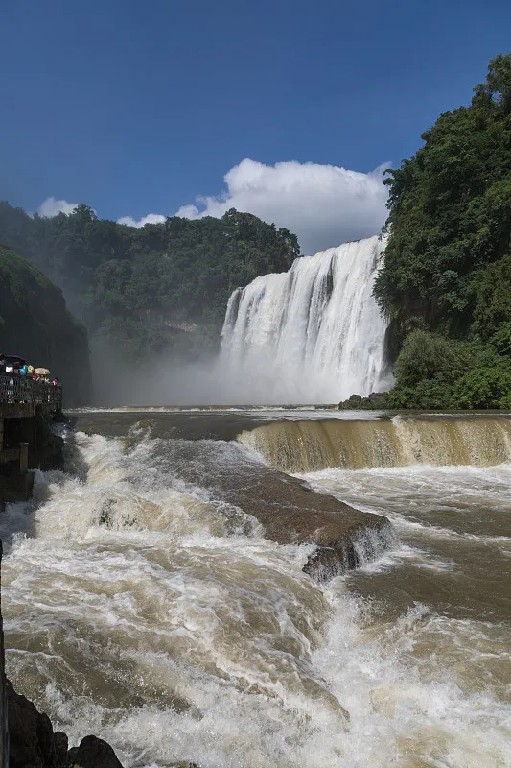Huangguoshu: (221, 233, 399, 405)
